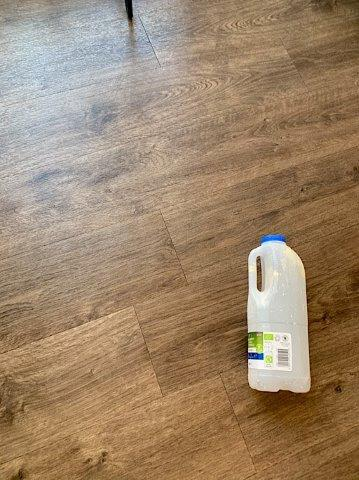botolplastik: (247, 236, 311, 393)
